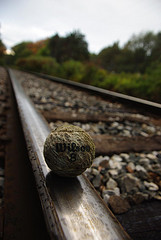tennis ball: (42, 124, 96, 178)
